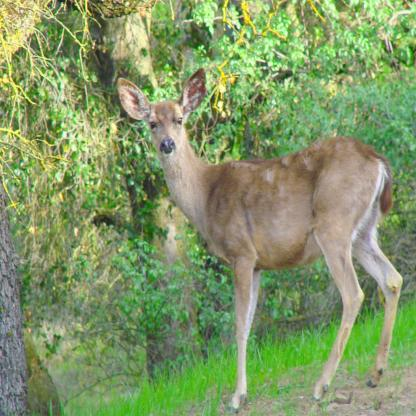Deer: (114, 65, 405, 412)
